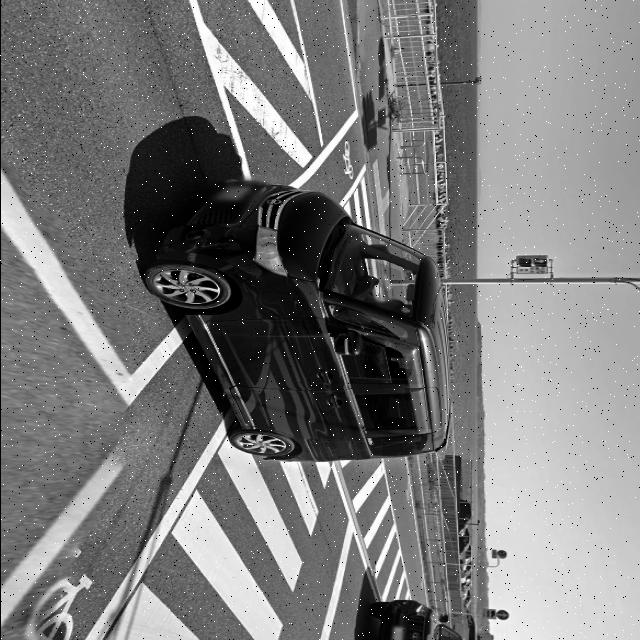traffic-light: (512, 254, 548, 270)
